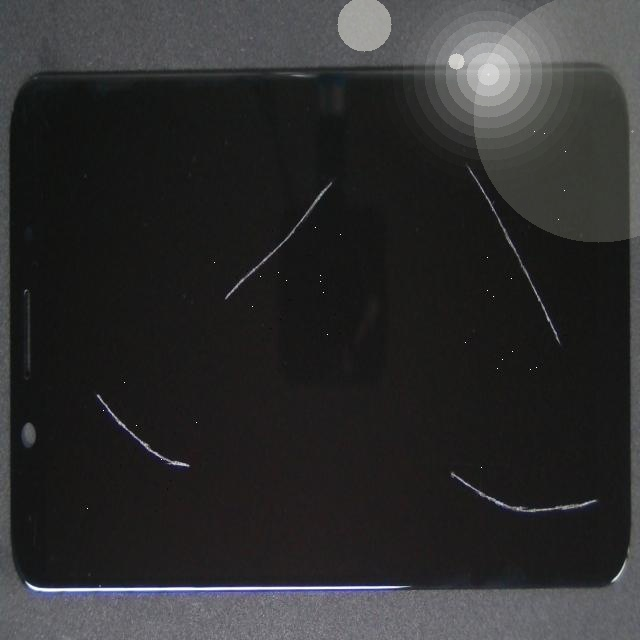scratch: (224, 197, 640, 640), (181, 7, 640, 384), (0, 152, 170, 640), (111, 170, 335, 509)
